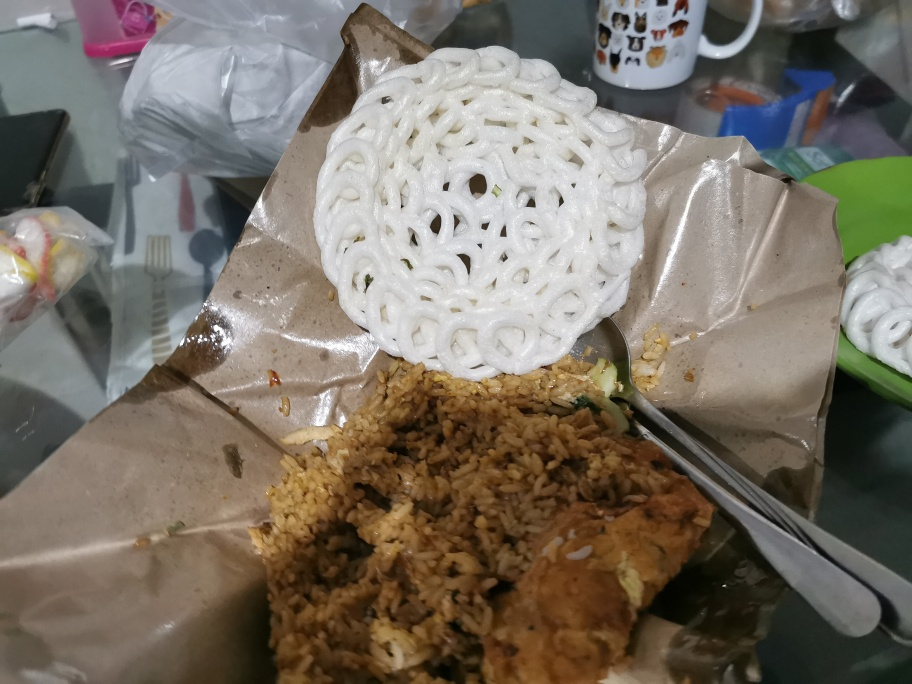kerupuk: (313, 47, 646, 356)
nasi goreng: (235, 366, 705, 684)
